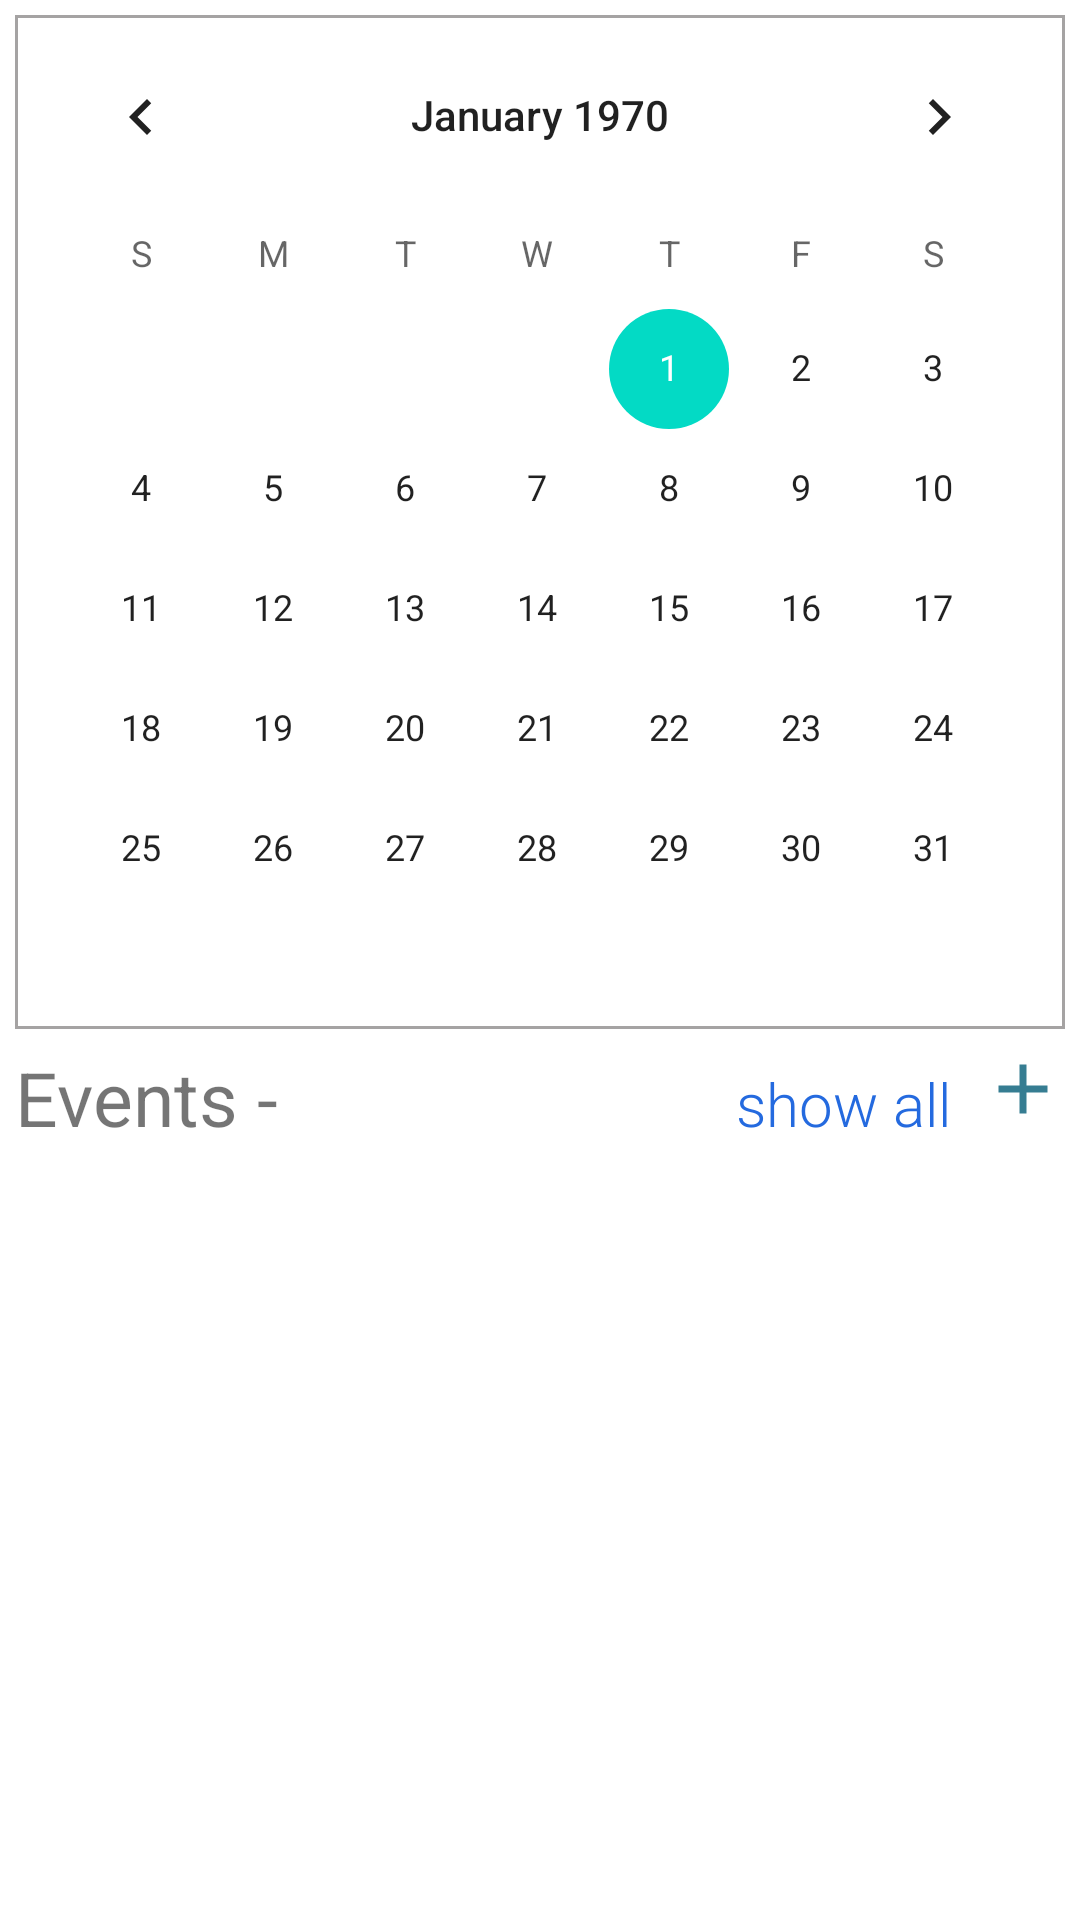

Icons on this 1080*1920 Android screen, each with the point to tap as (x,y):
addimg: (1023,1089)
